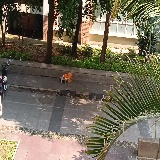fire: (63, 73, 72, 82)
